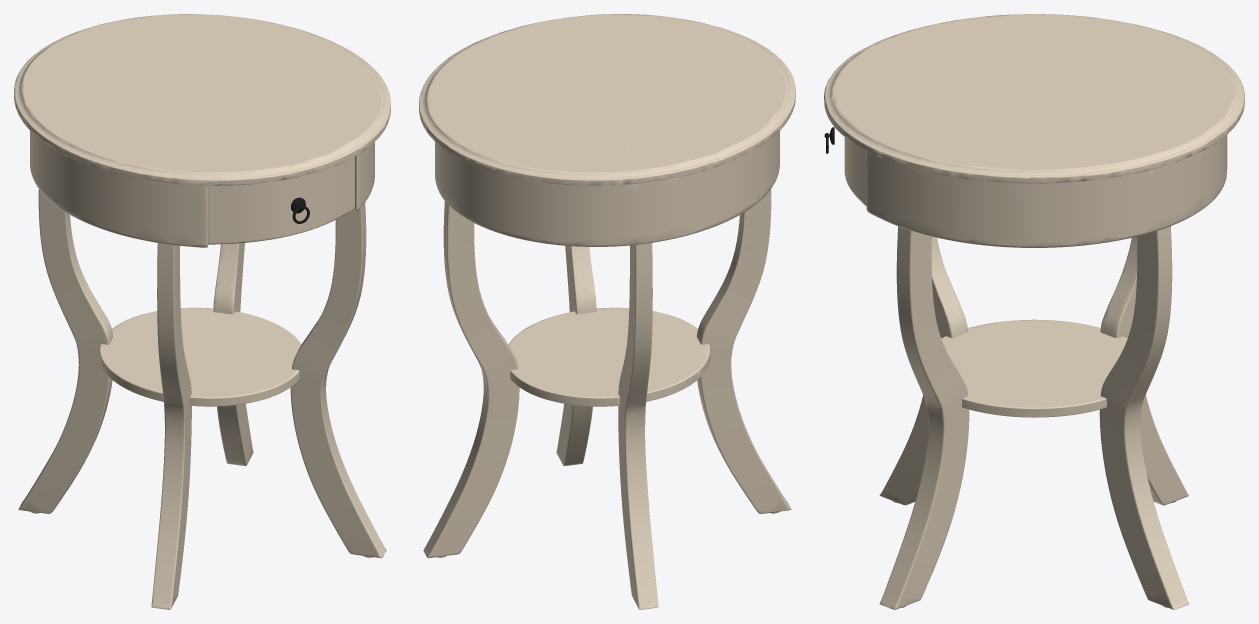
3 renders of one model, left to right at view 1: azimuth 30°, elevation 25°; view 2: azimuth 150°, elevation 25°; view 3: azimuth 270°, elevation 25°, orthographic. The views are drawn at different scales.
Parts seen in each view (by area): view 1: not_clear_obj_0_v6; view 2: not_clear_obj_0_v6; view 3: not_clear_obj_0_v6.
Boxes of the visible parts, box(x1,y1,x2,y2) form: not_clear_obj_0_v6: box(14, 14, 390, 609); not_clear_obj_0_v6: box(419, 14, 795, 609); not_clear_obj_0_v6: box(824, 14, 1244, 609).
Size of what is drawn, in the model's own units: 59.79 by 78.73 by 65.12.
